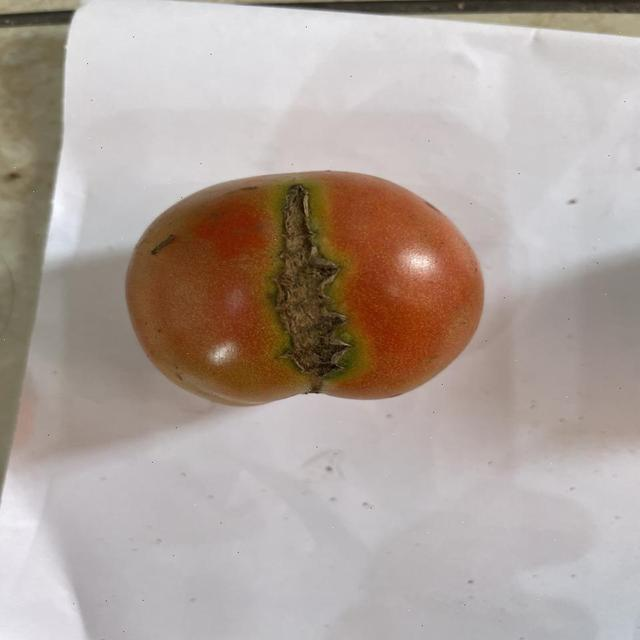Cracking Fruit: (91, 49, 273, 198)
